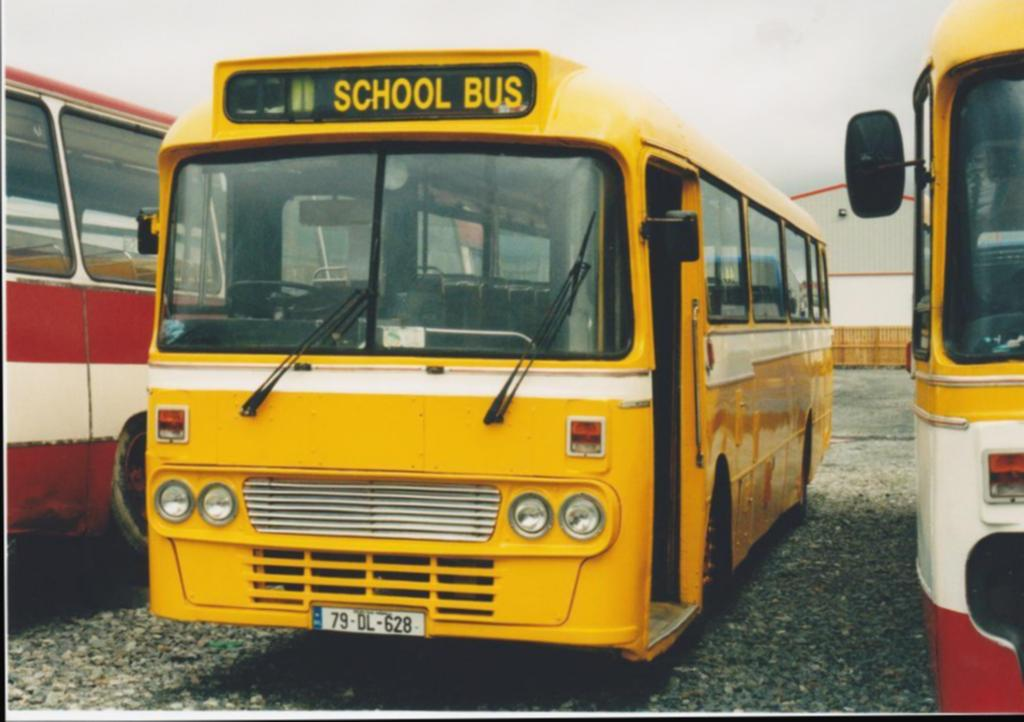License_Plate: (311, 604, 424, 640)
